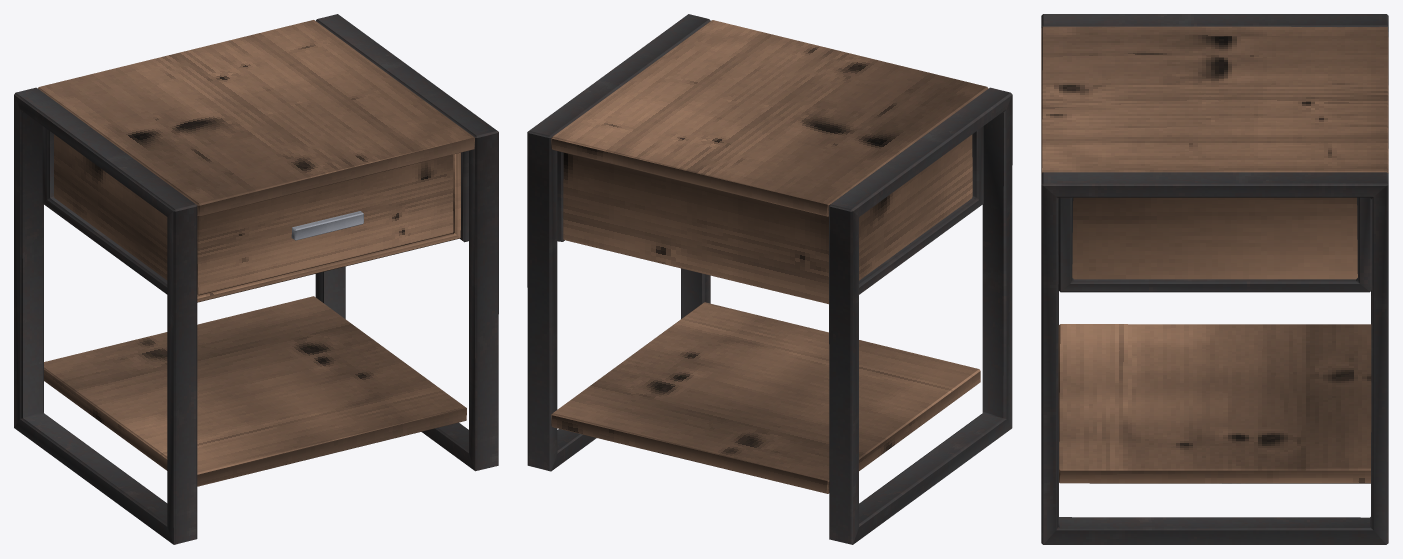
File: side_table.glb
3 renders of one model, left to right at view 1: azimuth 30°, elevation 25°; view 2: azimuth 150°, elevation 25°; view 3: azimuth 270°, elevation 25°, orthographic. The views are drawn at different scales.
Visible parts, largest first — view 1: Table, Table_Side_Apt_01, Drawer.001, Handle.005; view 2: Table, Table_Side_Apt_01; view 3: Table, Table_Side_Apt_01.
Boxes of the visible parts, left/top/right/bottom form: Table: left=38, top=20, right=474, bottom=486; Table_Side_Apt_01: left=14, top=14, right=498, bottom=544; Drawer.001: left=197, top=154, right=453, bottom=295; Handle.005: left=291, top=211, right=363, bottom=240; Table: left=551, top=20, right=988, bottom=493; Table_Side_Apt_01: left=527, top=14, right=1012, bottom=544; Table: left=1041, top=26, right=1388, bottom=483; Table_Side_Apt_01: left=1041, top=14, right=1388, bottom=544.
Bounding box in the file's own units: 0.6901 × 0.6791 × 0.592.
3 materials, 3 textured.
